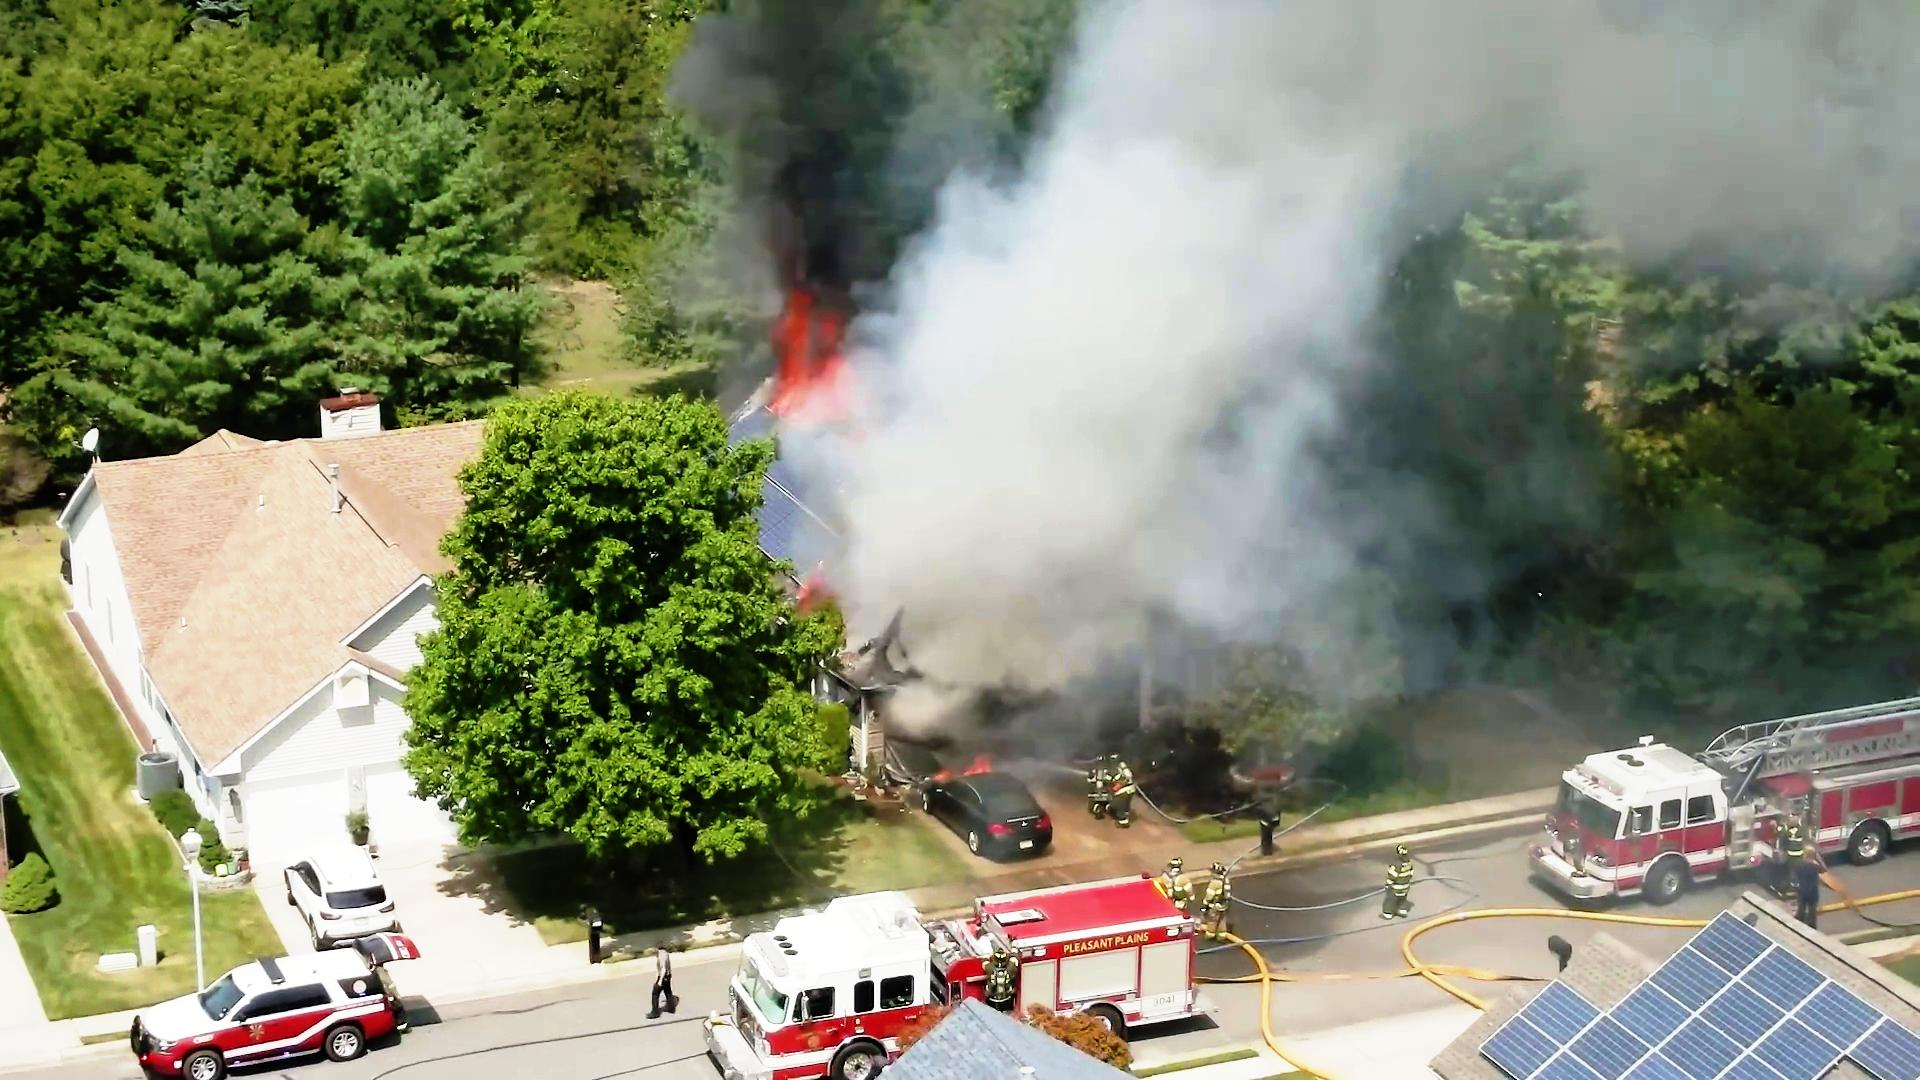fire: (775, 313, 870, 409)
smoke: (906, 219, 1269, 611)
